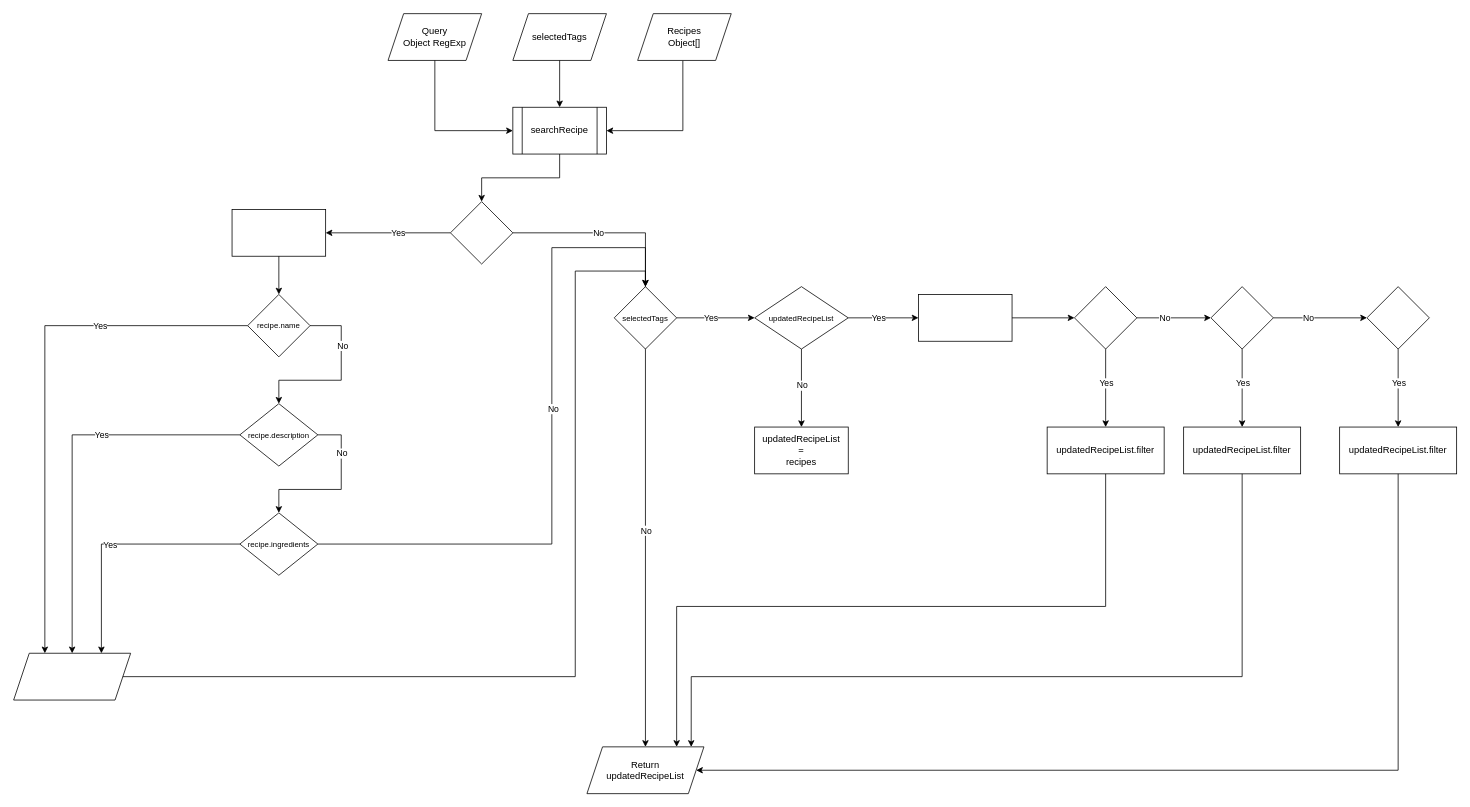
Image size: 1470x807. Some labels were removed from this diagram. Each missing label, with the centre of its shape:
appliances: pixel 1241 317
ingredients: pixel 1105 317
push updatedRecipeList: pixel 72 676
query: pixel 481 232
recipes.forEach: pixel 278 232
selectedTags.map: pixel 965 317
utensils: pixel 1397 317
